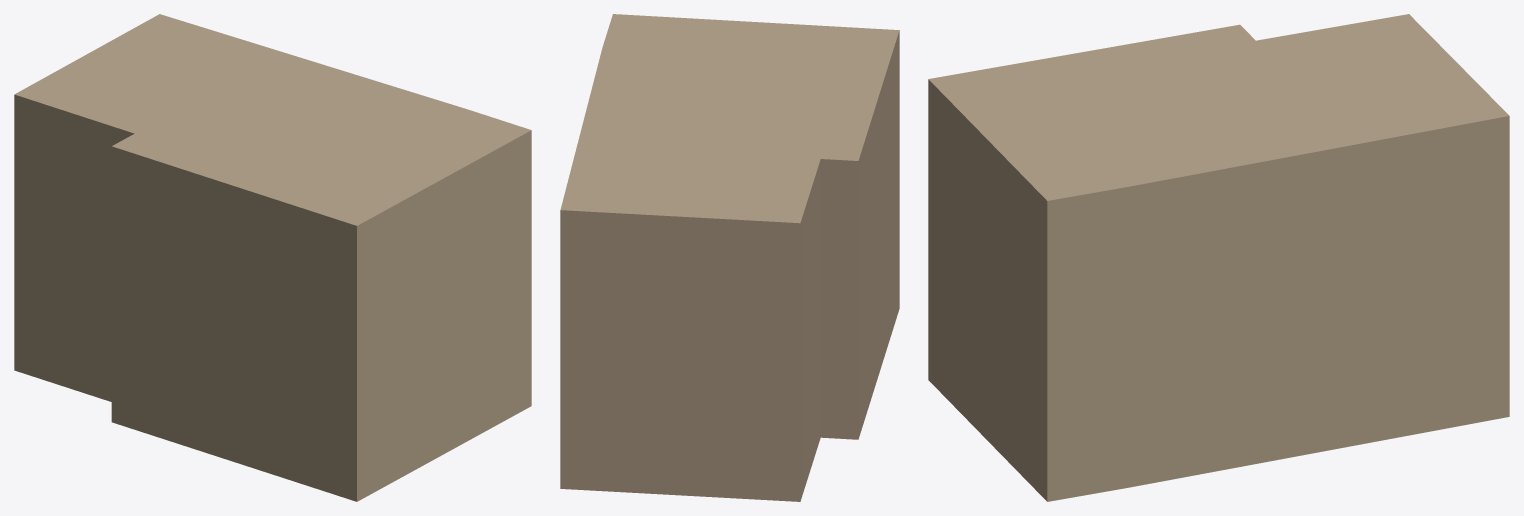
The model's file is bld_106456081.dae.
3 renders of one model, left to right at view 1: azimuth 30°, elevation 25°; view 2: azimuth 150°, elevation 25°; view 3: azimuth 270°, elevation 25°, orthographic. The views are drawn at different scales.
Parts seen in each view (by area): view 1: bld_106456081; view 2: bld_106456081; view 3: bld_106456081.
Part boxes in pixels (bbox=[...]): bld_106456081: bbox=[14, 14, 531, 501]; bld_106456081: bbox=[560, 14, 899, 501]; bld_106456081: bbox=[928, 14, 1509, 501].
Size of the model in its own units: 10.66 by 14 by 8.
